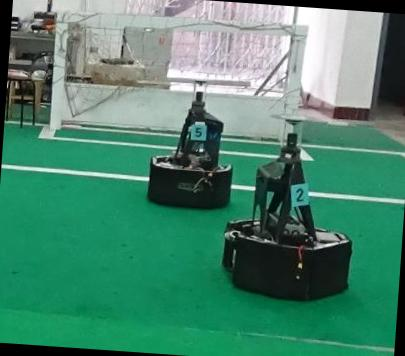goal: (48, 22, 67, 130)
robot: (221, 132, 351, 299), (147, 91, 232, 208)
